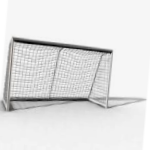goals: (2, 36, 114, 111)
